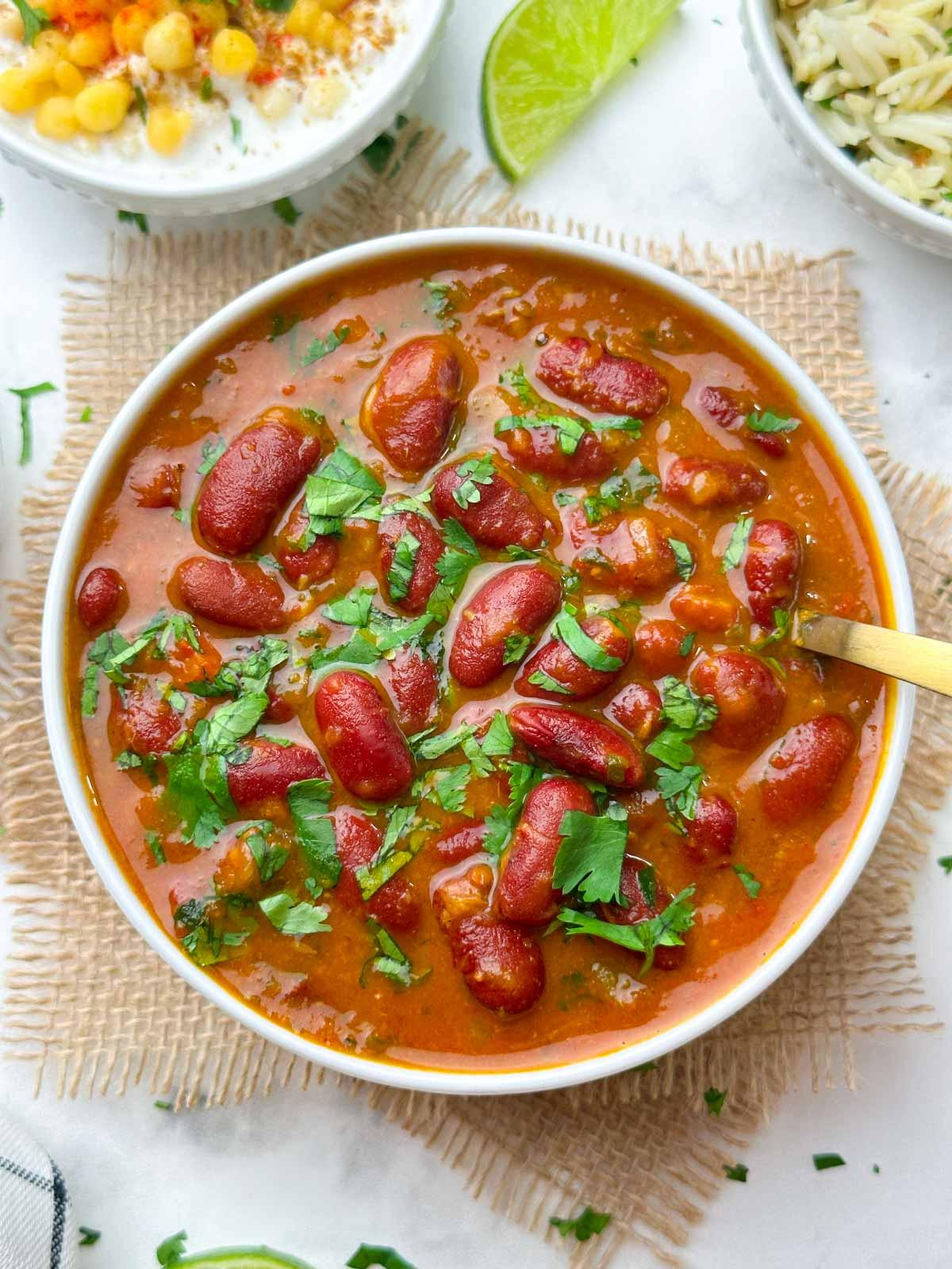rajma: (115, 246, 833, 928)
